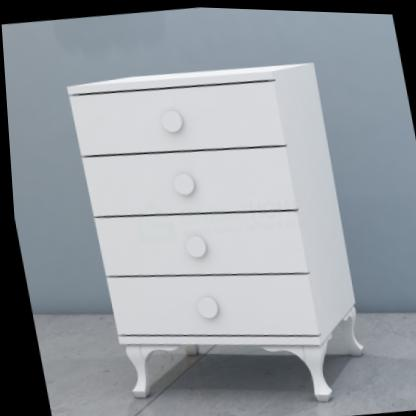Ceramic floor: (28, 310, 416, 416)
Nightstand: (61, 50, 375, 416)
